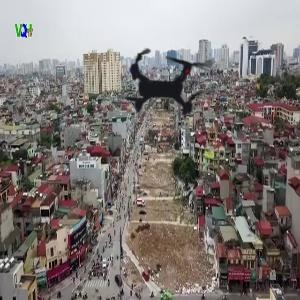drone: (94, 10, 239, 155)
